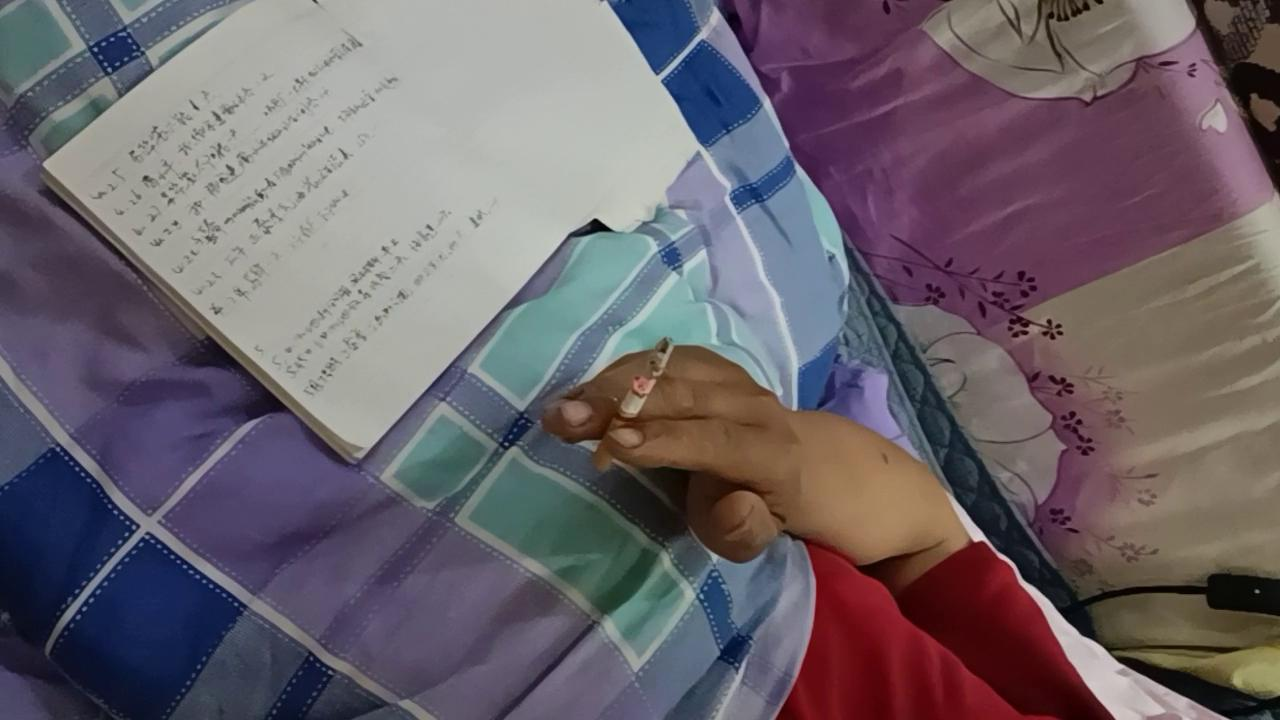smoke: (590, 336, 675, 471)
